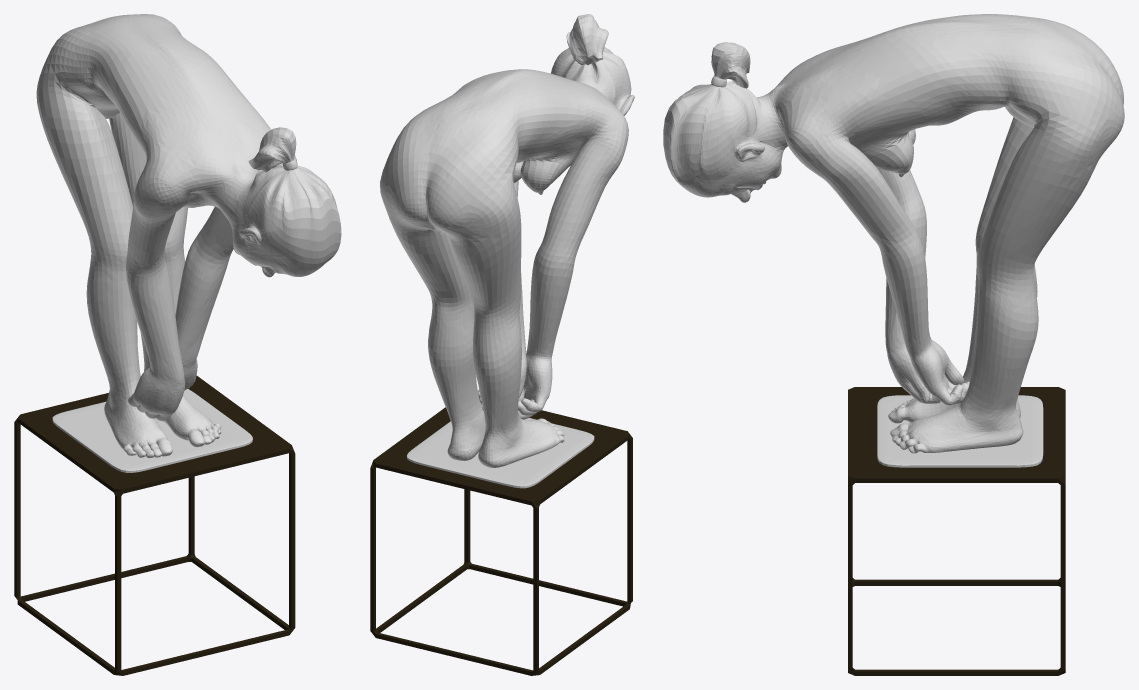
Rendered from kobieta.glb.
3 views of the same model, side by side, from view 1: azimuth 30°, elevation 25°; view 2: azimuth 150°, elevation 25°; view 3: azimuth 270°, elevation 25° (orthographic). The views are drawn at different scales.
Bounding box in the file's own units: 0.5229 × 1.62 × 1.11.
